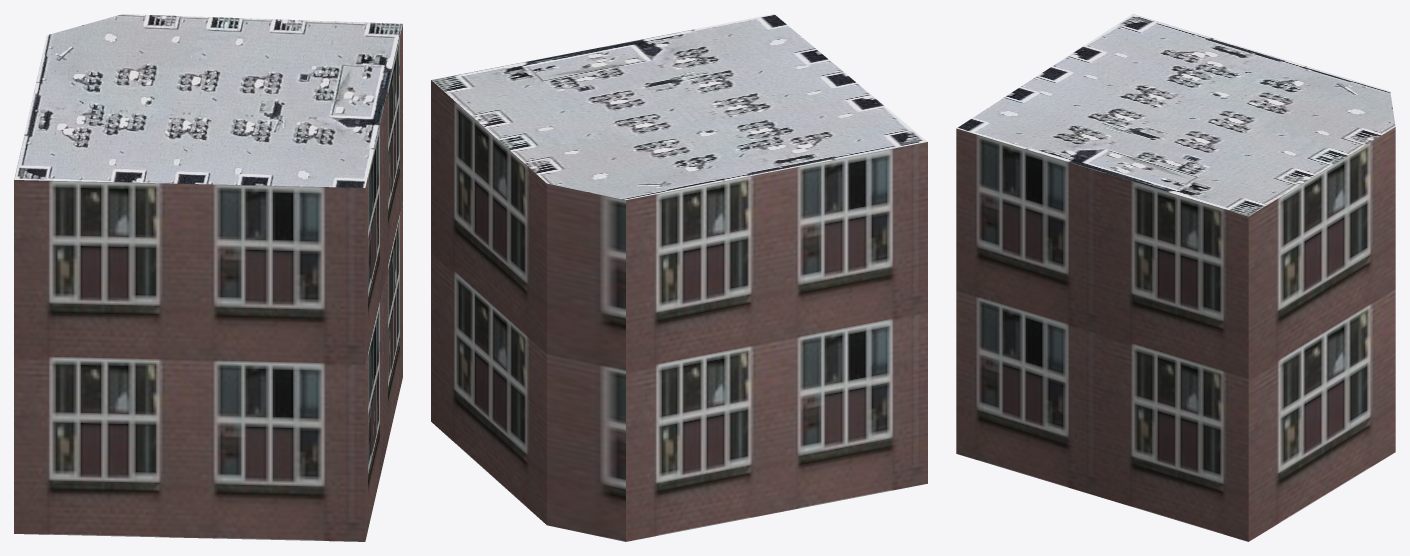
Rendered from ResTex__4406.fbx.
3 views of the same model, side by side, from view 1: azimuth 30°, elevation 25°; view 2: azimuth 150°, elevation 25°; view 3: azimuth 270°, elevation 25° (orthographic). The views are drawn at different scales.
Parts seen in each view (by area): view 1: CityEngineMaterial_12_m, CityEngineMaterial_m; view 2: CityEngineMaterial_12_m, CityEngineMaterial_m; view 3: CityEngineMaterial_12_m, CityEngineMaterial_m.
Part boxes in pixels (left/top/right/bottom): CityEngineMaterial_12_m: left=14, top=24, right=402, bottom=541; CityEngineMaterial_m: left=14, top=14, right=402, bottom=187; CityEngineMaterial_12_m: left=431, top=80, right=927, bottom=541; CityEngineMaterial_m: left=431, top=14, right=927, bottom=200; CityEngineMaterial_12_m: left=956, top=127, right=1395, bottom=541; CityEngineMaterial_m: left=956, top=14, right=1395, bottom=216.
Size of the model in its own units: 8.01 by 6 by 7.34.
2 materials, 2 textured.
